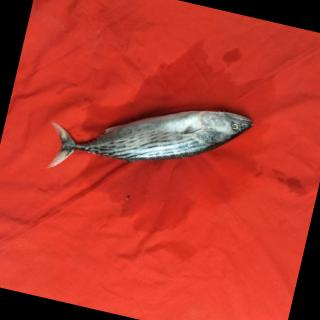Ikan: (42, 66, 267, 212)
